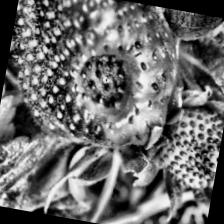Anthracnose Fruit Rot: (67, 43, 142, 112)
